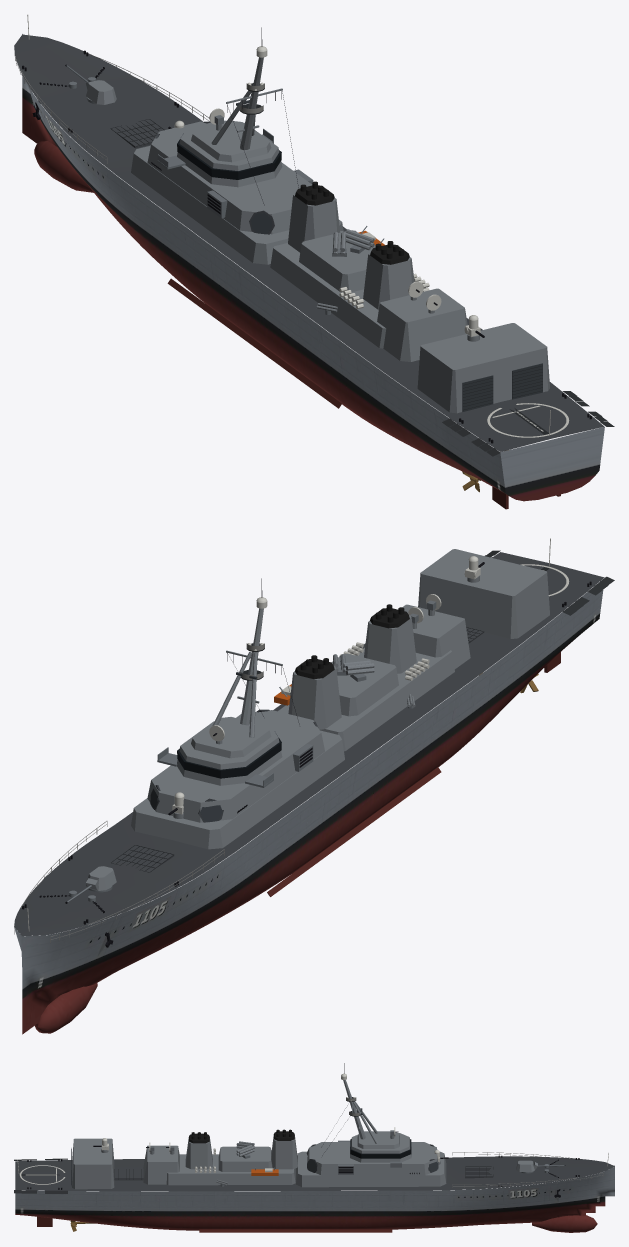
File: ddg.glb
The picture shows the model from 3 angles, top to bottom: view 1: azimuth 30°, elevation 25°; view 2: azimuth 150°, elevation 25°; view 3: azimuth 270°, elevation 25°; orthographic projection. The views are drawn at different scales.
Parts seen in each view (by area): view 1: lod0mesh; view 2: lod0mesh; view 3: lod0mesh, noA.
Boxes of the visible parts, x1=… form: lod0mesh: x1=14, y1=14, x2=614, y2=509; lod0mesh: x1=14, y1=538, x2=614, y2=1034; lod0mesh: x1=14, y1=1063, x2=614, y2=1232; noA: x1=508, y1=1188, x2=538, y2=1199.
Size of what is drawn, in the model's own units: 21.77 by 48.3 by 156.
2 materials, 1 textured.
